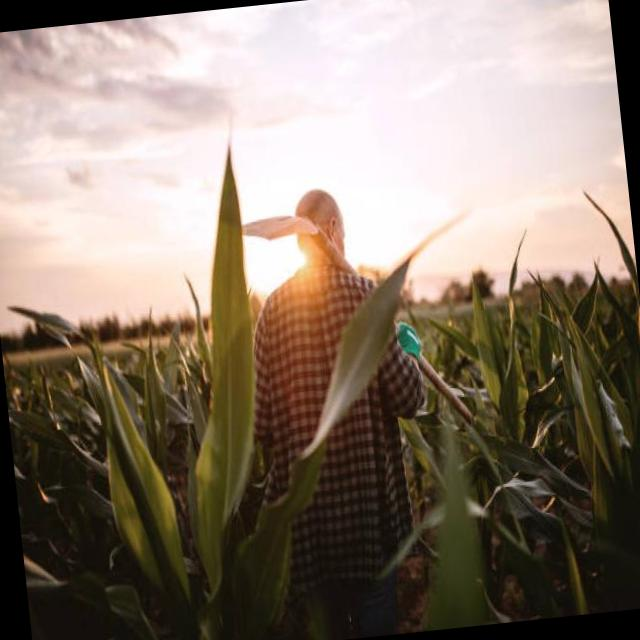Gloves: (390, 314, 423, 369)
